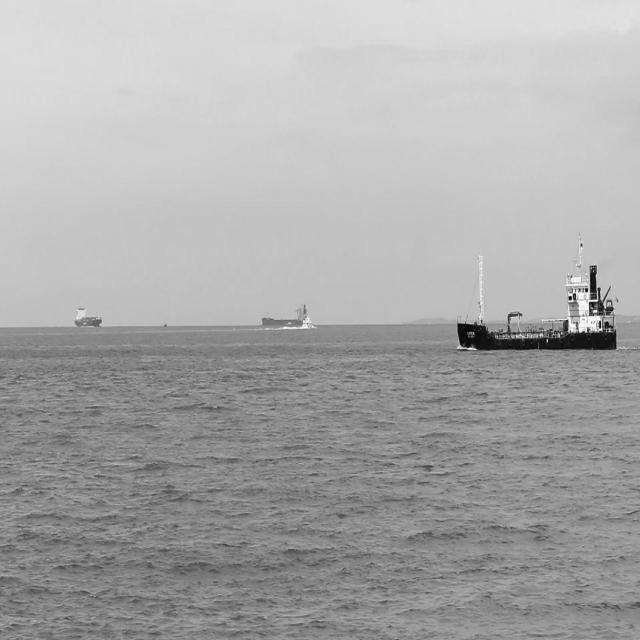ship: (454, 230, 620, 354), (259, 298, 310, 332), (74, 301, 104, 329), (300, 312, 312, 332)
